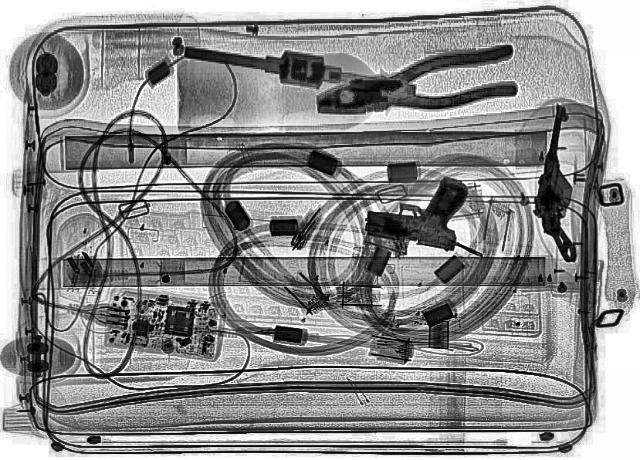Gun: (520, 102, 610, 262), (358, 166, 478, 250)
Pliers: (304, 44, 526, 126)
